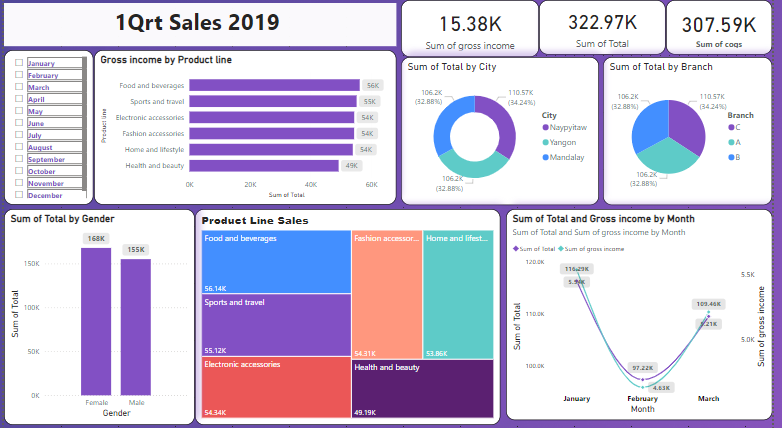

What the dashboard file says about the page in this screenshot:
{"tool":"powerbi","page":{"name":"Page 1","canvas":[1280,720],"ordinal":0},"visuals":[{"type":"card","fields":{"Values":["Sum(supermarket_sales (2).gross income)"]},"box":[662,2.7,230,95.1],"z":0},{"type":"card","fields":{"Values":["Sum(supermarket_sales (2).Total)"]},"box":[892.1,2.7,211,90.6],"z":1000},{"type":"card","fields":{"Values":["Sum(supermarket_sales (2).cogs)"]},"box":[1103.1,2.7,176.6,91.5],"z":2000},{"type":"pieChart","fields":{"Category":["supermarket_sales (2).Branch"],"Y":["Sum(supermarket_sales (2).Total)"]},"box":[998,97.8,281.7,247.2],"z":3000},{"type":"donutChart","fields":{"Category":["supermarket_sales (2).City"],"Y":["Sum(supermarket_sales (2).Total)"]},"box":[662,97.8,329.7,247.2],"z":4000},{"type":"treemap","title":"Product Line Sales","fields":{"Group":["supermarket_sales (2).Product line"],"Values":["Sum(supermarket_sales (2).Total)"]},"box":[317.9,352.3,509,359.5],"z":5000},{"type":"clusteredColumnChart","fields":{"Category":["supermarket_sales (2).Gender"],"Y":["Sum(supermarket_sales (2).Total)"]},"box":[0,352.3,317.9,359.5],"z":6000},{"type":"slicer","fields":{"Values":["supermarket_sales (2).Date.Variation.Date Hierarchy.Month"]},"box":[0,86.9,149.4,258.1],"z":7000},{"type":"lineChart","title":"Sum of Total and Gross income by Month","fields":{"Category":["supermarket_sales (2).Date.Variation.Date Hierarchy.Month"],"Y":["Sum(supermarket_sales (2).Total)"],"Y2":["Sum(supermarket_sales (2).gross income)"]},"box":[835.9,352.3,443.8,352.3],"z":8000},{"type":"clusteredBarChart","title":"Gross income by Product line","fields":{"Category":["supermarket_sales (2).Product line"],"Y":["Sum(supermarket_sales (2).Total)"]},"box":[149.4,86.9,504.5,258.1],"z":9000},{"type":"textbox","box":[0,8.2,653.9,72.5],"z":9001}]}

Visuals, with their boxes in screenshot pixels (x1, y1, x2, y2), scaled from the page's 1280x720 canvas onto the 782x428 screenshot:
card - Sum(supermarket_sales (2).gross income): <bbox>404, 2, 545, 58</bbox>
card - Sum(supermarket_sales (2).Total): <bbox>545, 2, 674, 55</bbox>
card - Sum(supermarket_sales (2).cogs): <bbox>674, 2, 781, 56</bbox>
pieChart - supermarket_sales (2).Branch x Sum(supermarket_sales (2).Total): <bbox>610, 58, 781, 205</bbox>
donutChart - supermarket_sales (2).City x Sum(supermarket_sales (2).Total): <bbox>404, 58, 606, 205</bbox>
"Product Line Sales" treemap: <bbox>194, 209, 505, 423</bbox>
clusteredColumnChart - supermarket_sales (2).Gender x Sum(supermarket_sales (2).Total): <bbox>0, 209, 194, 423</bbox>
slicer - supermarket_sales (2).Date.Variation.Date Hierarchy.Month: <bbox>0, 52, 91, 205</bbox>
"Sum of Total and Gross income by Month" lineChart: <bbox>511, 209, 781, 419</bbox>
"Gross income by Product line" clusteredBarChart: <bbox>91, 52, 399, 205</bbox>
textbox: <bbox>0, 5, 399, 48</bbox>
